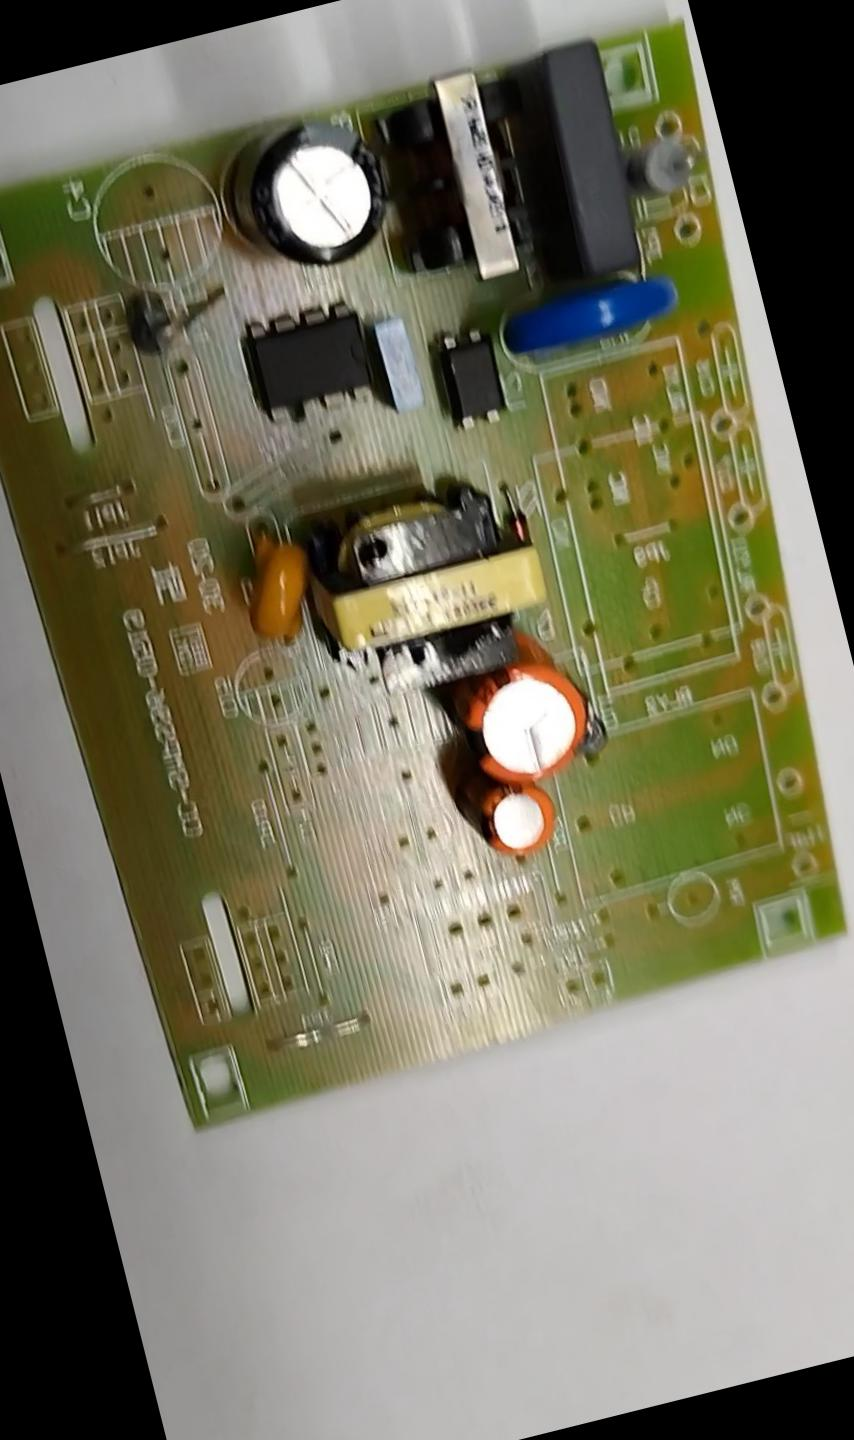Cap1: (453, 658, 594, 791)
Cap2: (474, 777, 562, 864)
Cap3: (227, 115, 399, 274)
MOSFET: (243, 298, 382, 434)
Mov: (502, 269, 683, 364)
Resistor: (624, 129, 707, 205)
Transformer: (303, 476, 560, 688), (374, 63, 549, 296)
